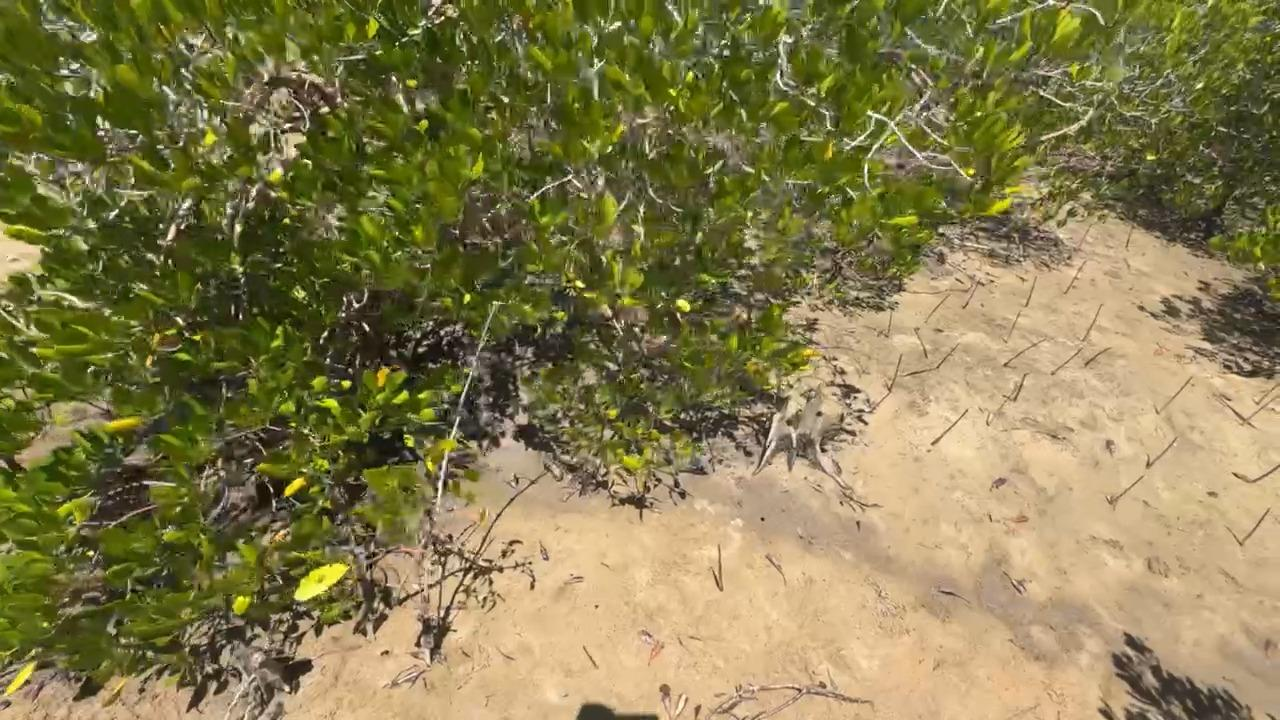Tree: (930, 408, 968, 446), (1157, 376, 1194, 413), (1240, 394, 1280, 426), (1003, 338, 1046, 367), (1241, 507, 1271, 546), (1146, 436, 1178, 469), (1111, 474, 1145, 504), (1050, 347, 1083, 375), (1082, 304, 1104, 342), (1063, 260, 1086, 294), (924, 293, 950, 323), (765, 555, 786, 586), (962, 277, 982, 309), (888, 352, 903, 392), (936, 343, 959, 369), (1004, 310, 1022, 343), (1084, 347, 1112, 367), (1252, 463, 1280, 483), (1256, 382, 1280, 405), (1003, 571, 1023, 595), (937, 590, 971, 603), (914, 328, 928, 359), (1013, 373, 1027, 402), (1077, 224, 1093, 248), (1025, 276, 1037, 307), (582, 645, 598, 668), (717, 543, 723, 592), (1125, 223, 1135, 248), (497, 647, 513, 659), (887, 308, 893, 336)
